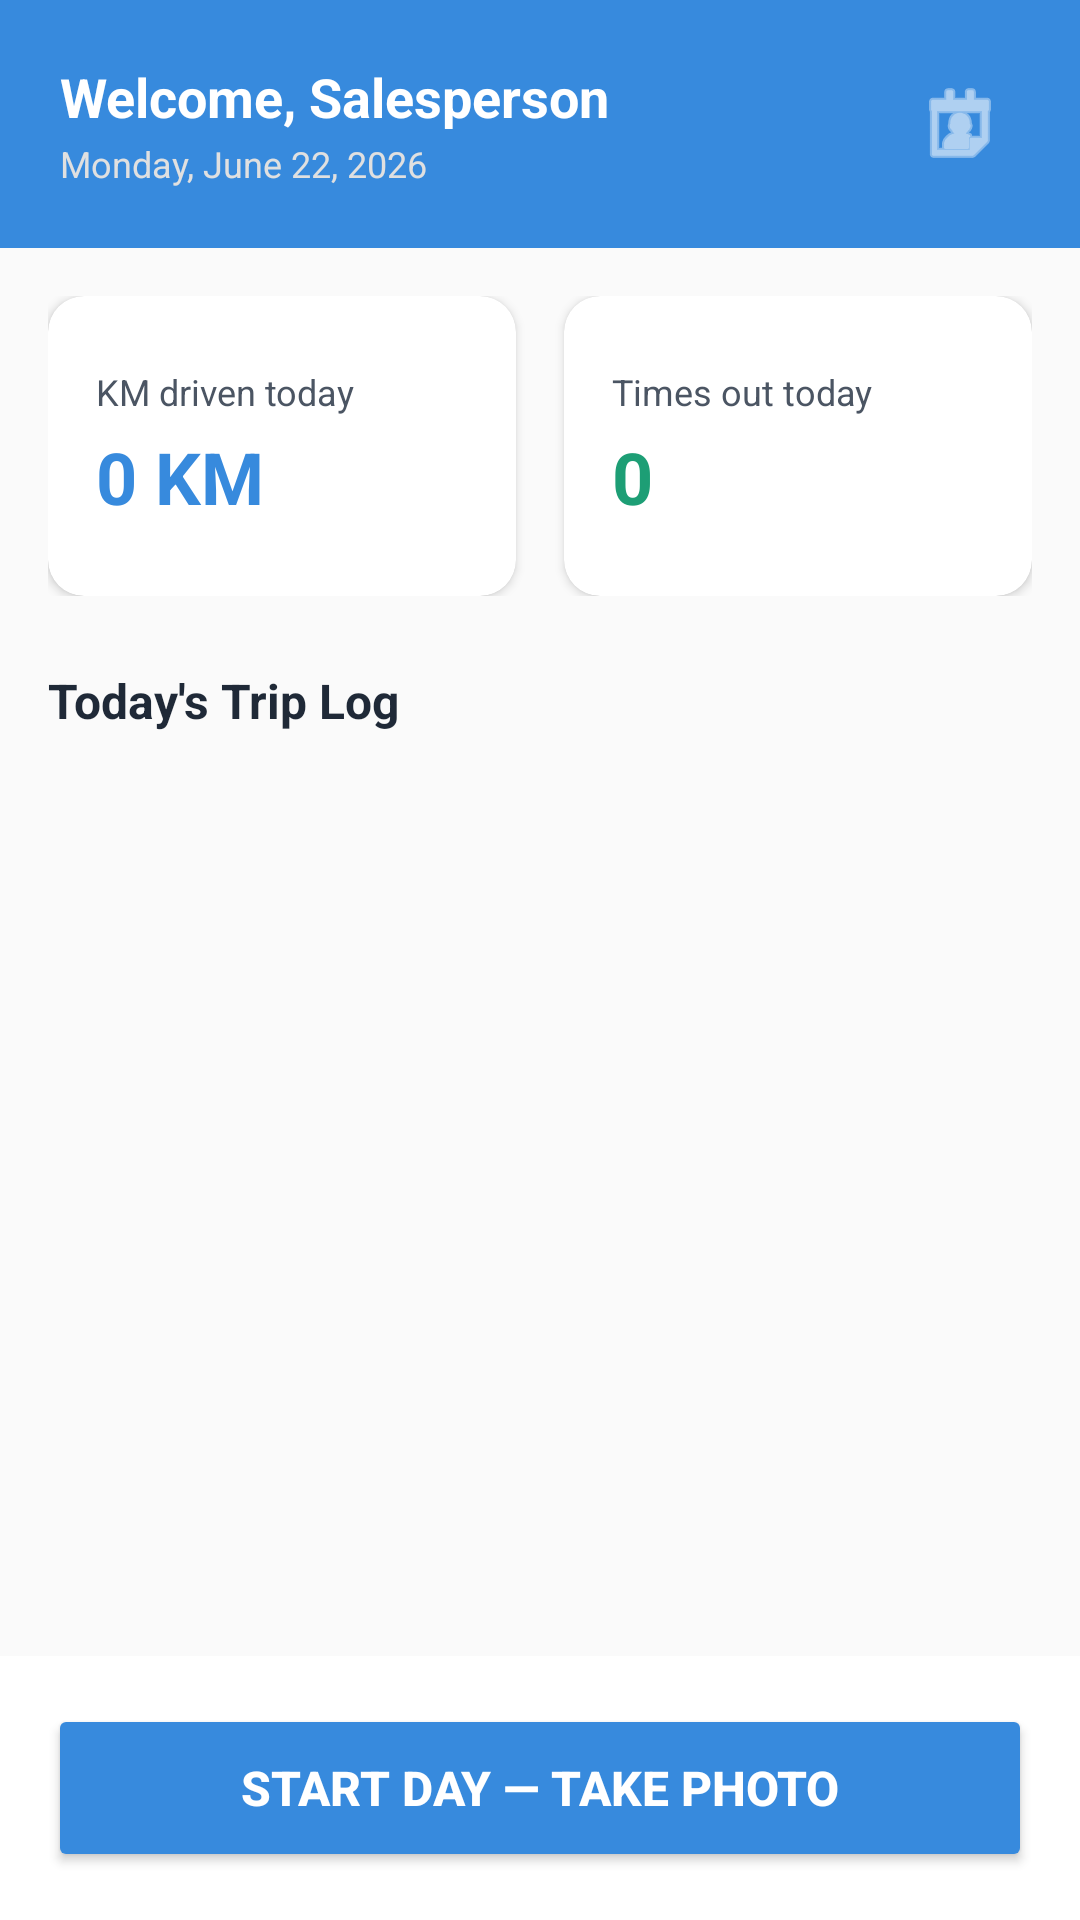

Point at icon controls on the screen. Image size 1080px x 1920px, points as (x=x, y=y).
History: (x=960, y=123)
